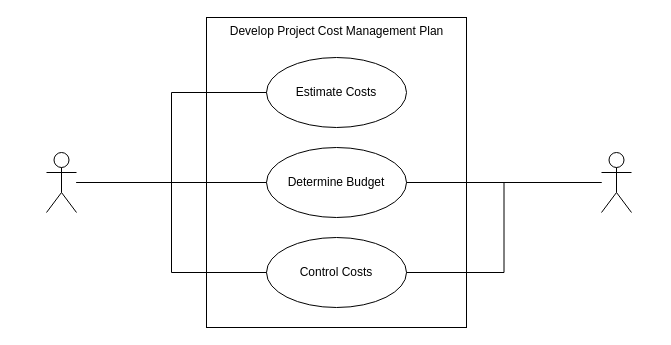
Some shapes in this 671 by 345 pixel diagram are drawn without their labels. Here are the shapes that lost their labels. From the top down, the centre of each, then its label:
At point (61, 182): "Project Manager".
At point (616, 182): "Stake Holders".
